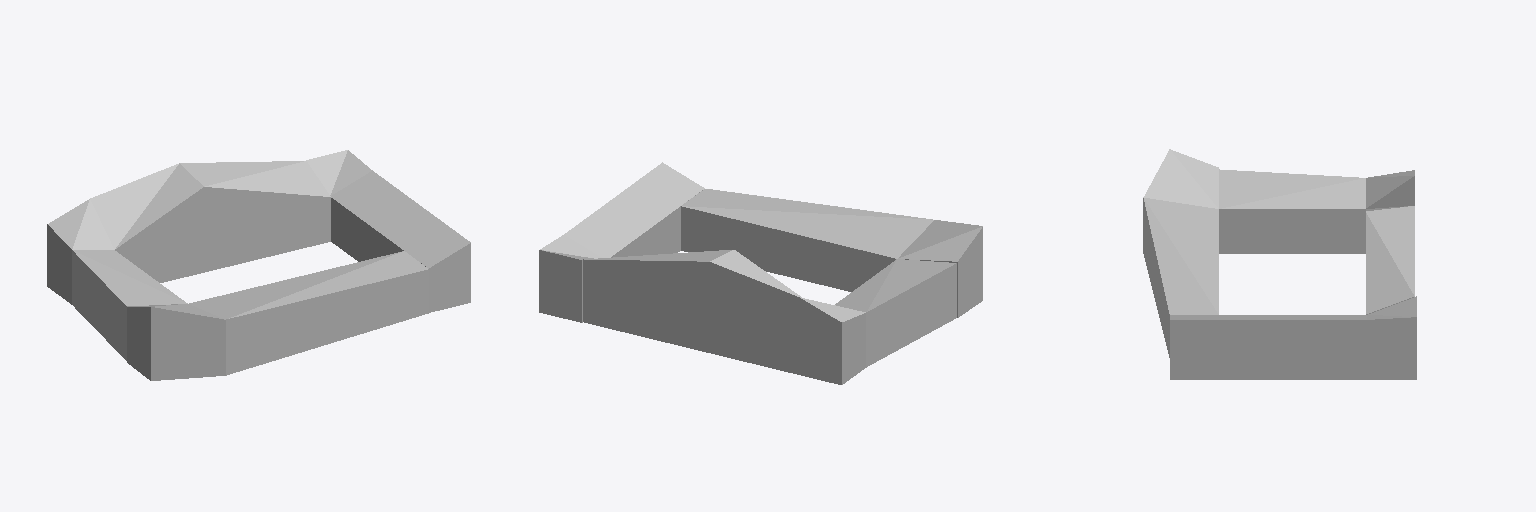
Rendered from course1.obj.
3 renders of one model, left to right at view 1: azimuth 30°, elevation 25°; view 2: azimuth 150°, elevation 25°; view 3: azimuth 270°, elevation 25°, orthographic.
Visible parts, largest first — view 1: Cube1; view 2: Cube1; view 3: Cube1.
Part boxes in pixels (x1,y1,x2,y2): Cube1: (47,150,470,380); Cube1: (539,162,982,384); Cube1: (1143,149,1416,379).
Bounding box in the file's own units: 15.07 × 4.11 × 11.12.